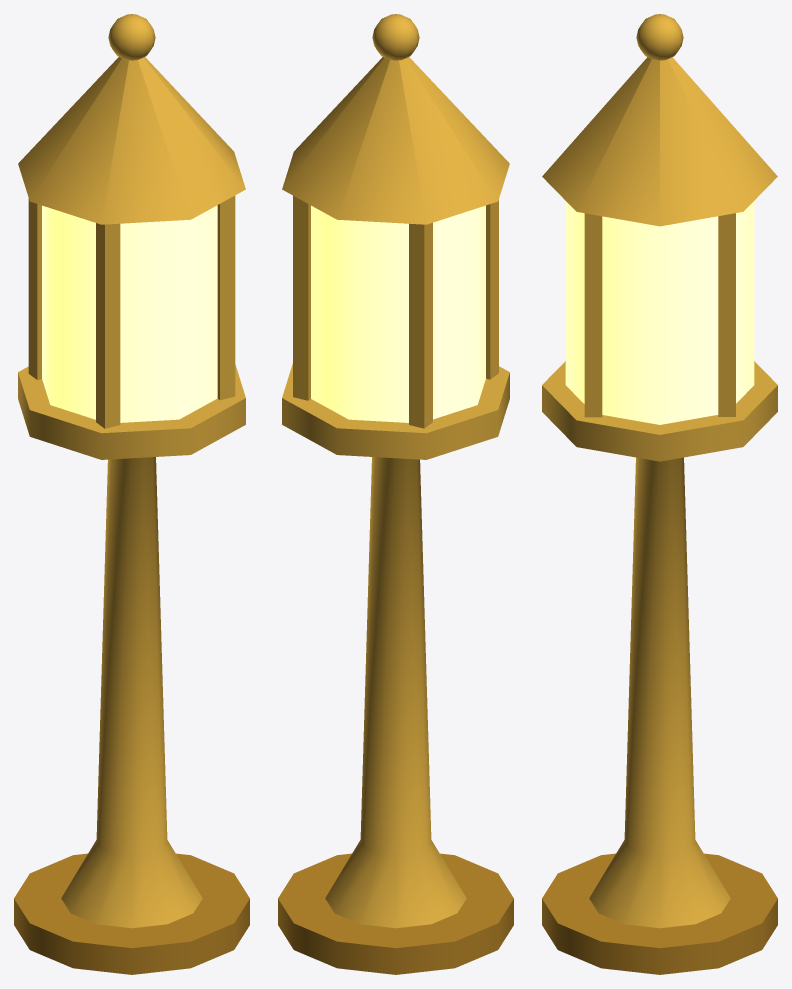
Rendered from gold_lamp.glb.
The picture shows the model from 3 angles, left to right: view 1: azimuth 30°, elevation 25°; view 2: azimuth 150°, elevation 25°; view 3: azimuth 270°, elevation 25°; orthographic projection.
Visible parts, largest first — view 1: root; view 2: root; view 3: root.
Part boxes in pixels (x1,y1,x2,y2): root: (14,14,249,974); root: (278,14,513,974); root: (542,14,777,974).
Size of the model in its own units: 0.4 by 1.7 by 0.4.
